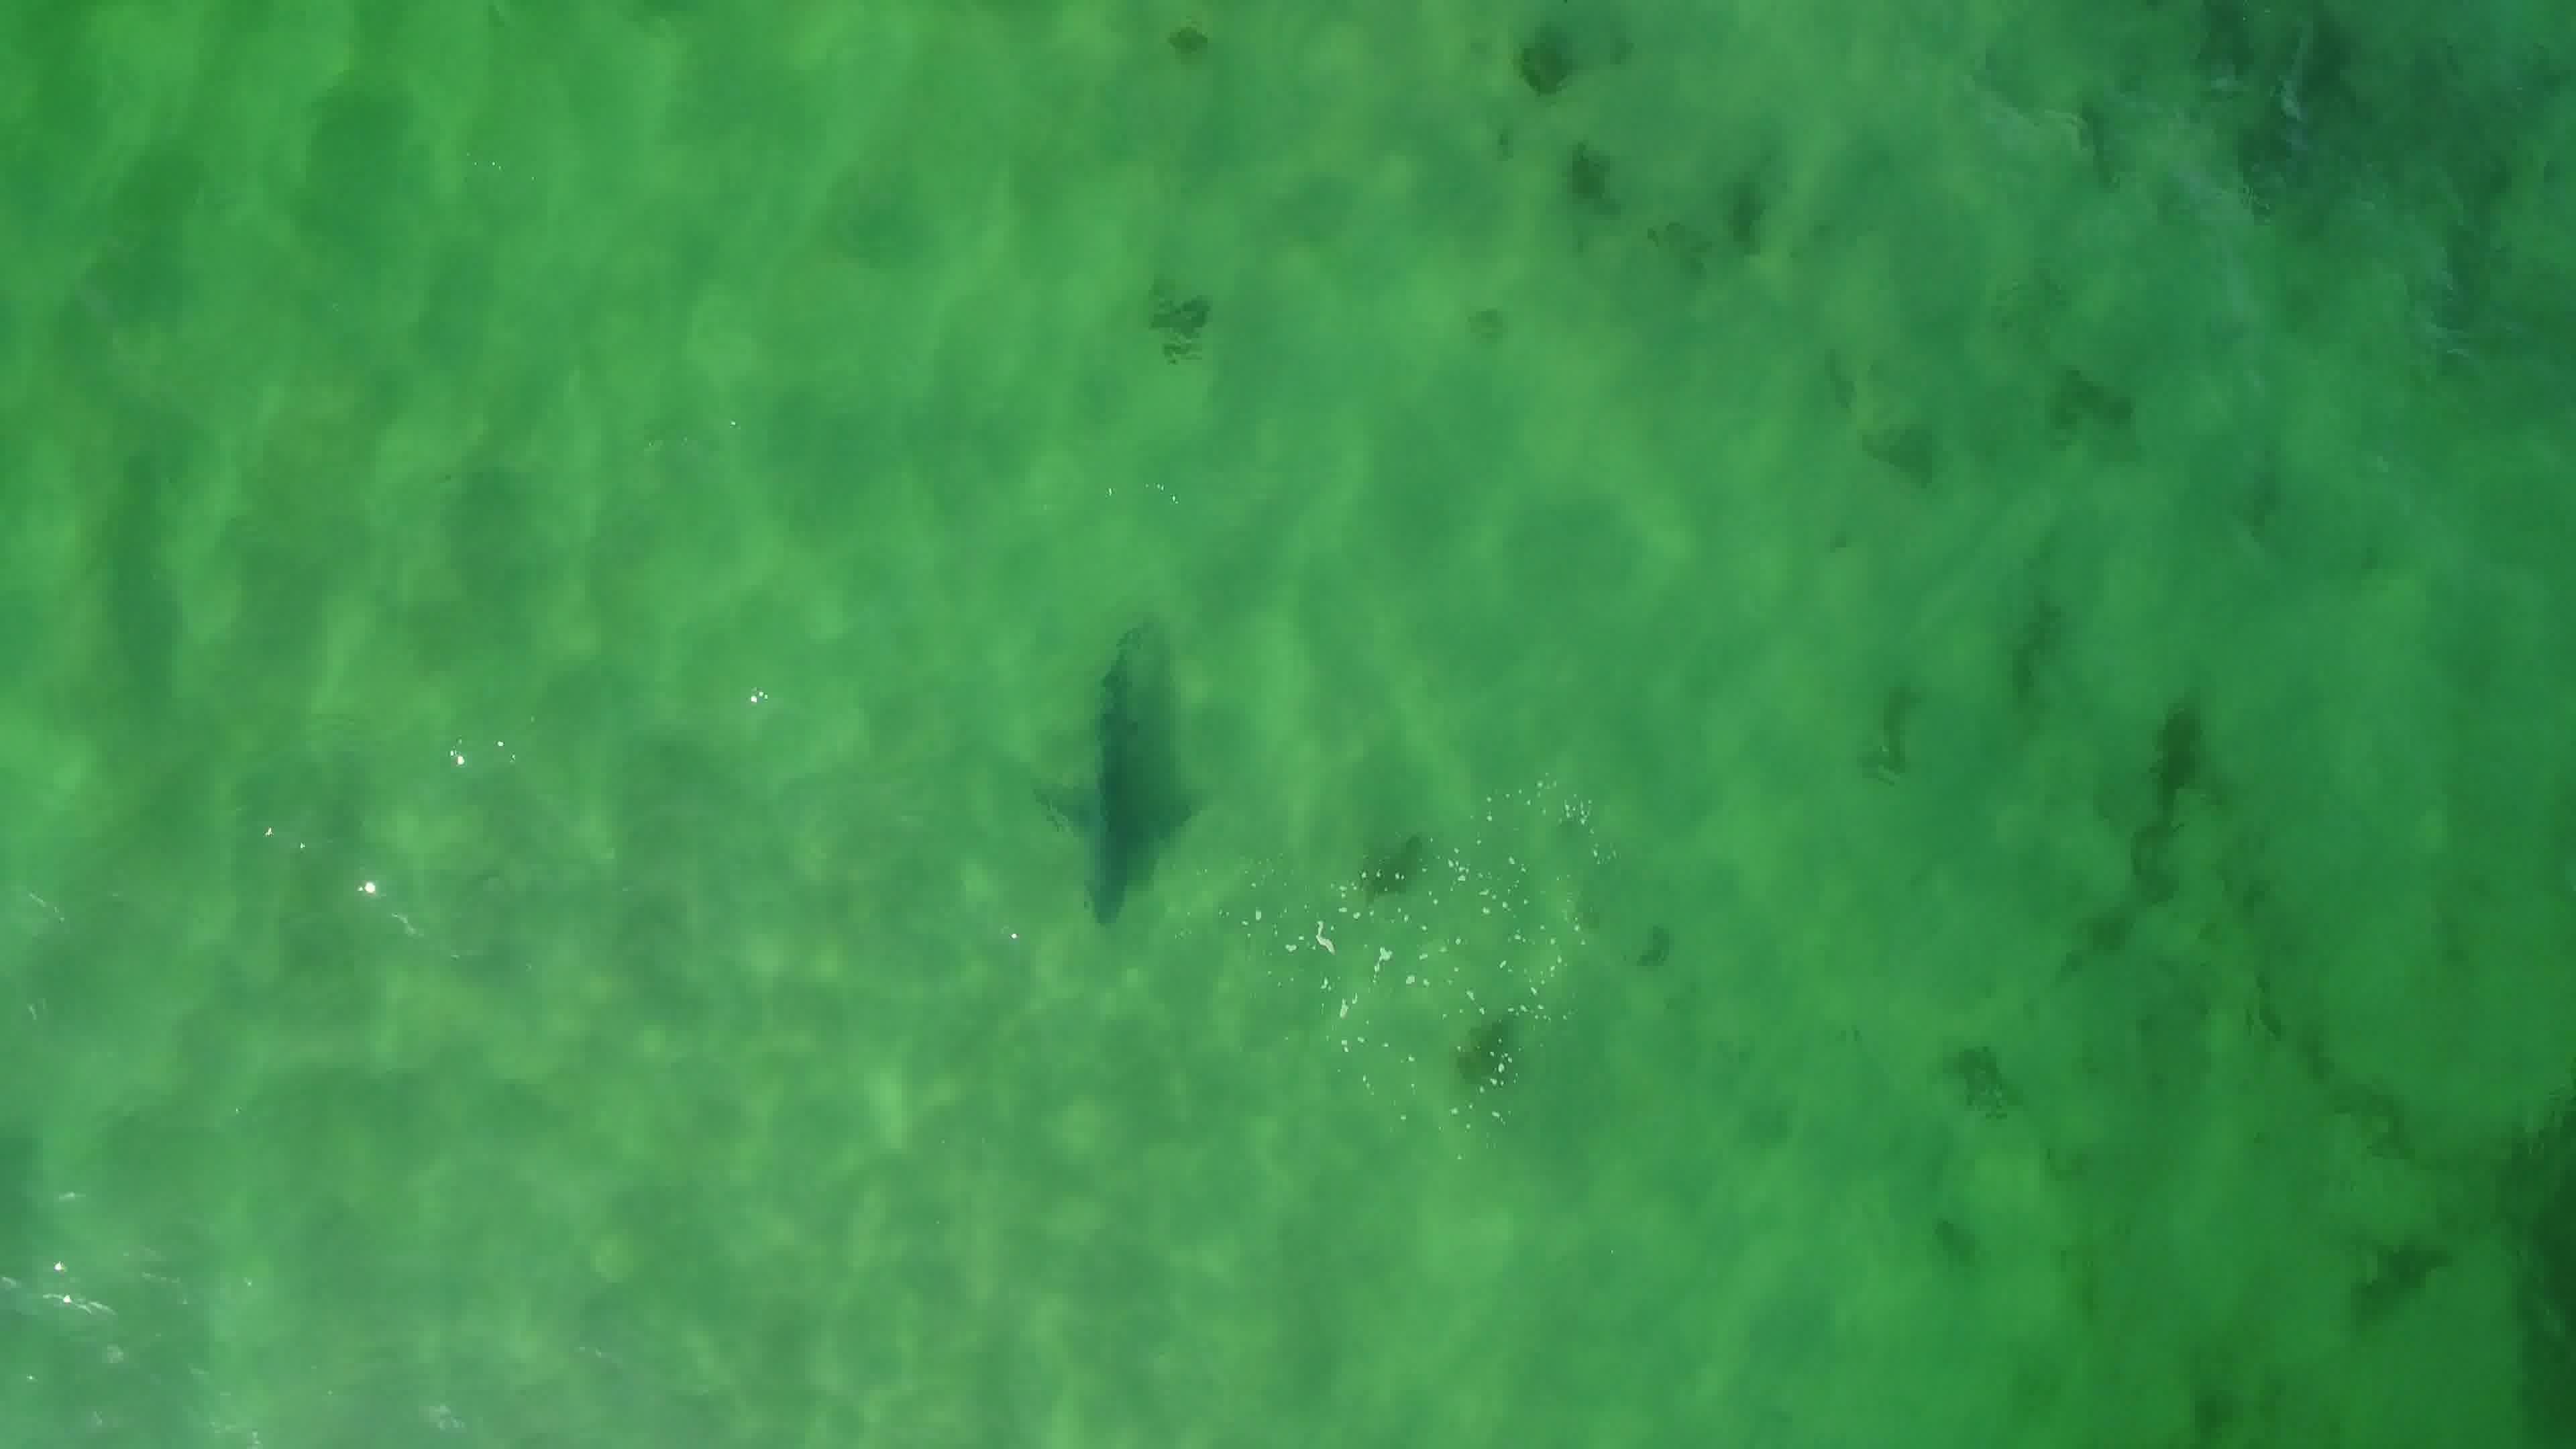shark: (1026, 612, 1201, 931)
